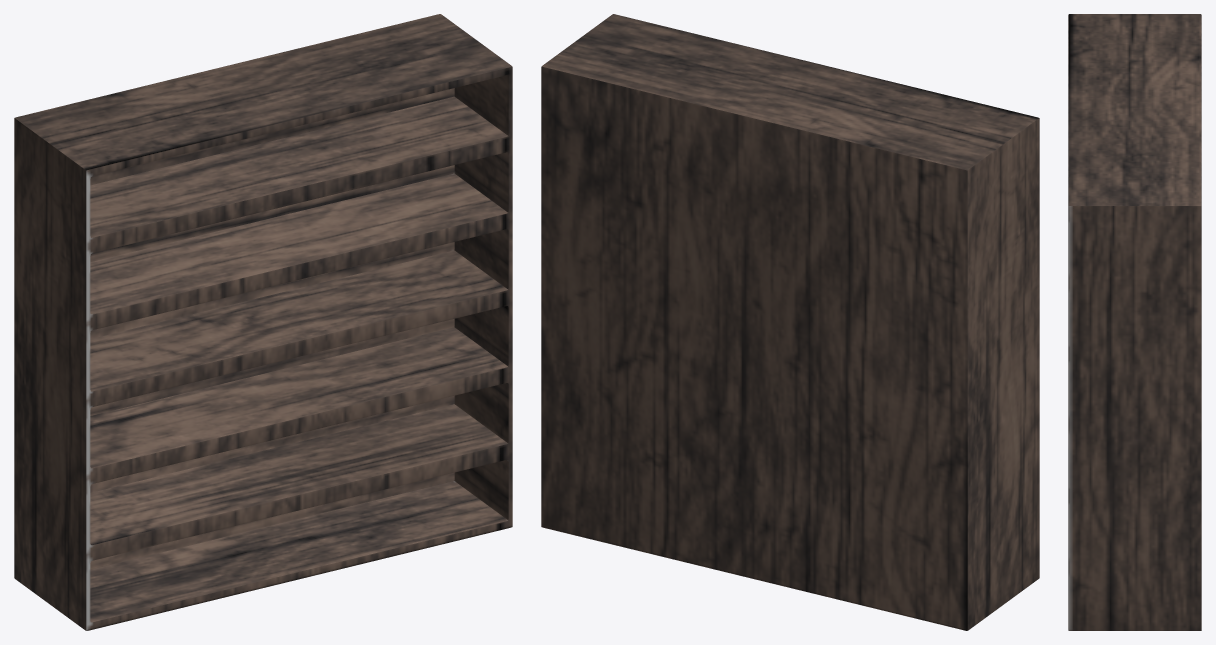
File: Armario_2_Adm_CENA.fbx
The picture shows the model from 3 angles, left to right: view 1: azimuth 30°, elevation 25°; view 2: azimuth 150°, elevation 25°; view 3: azimuth 270°, elevation 25°; orthographic projection. The views are drawn at different scales.
Visible parts, largest first — view 1: Cube.092; view 2: Cube.092; view 3: Cube.092.
Boxes of the visible parts, bbox=[...] form: Cube.092: bbox=[14, 14, 512, 630]; Cube.092: bbox=[541, 14, 1039, 630]; Cube.092: bbox=[1068, 14, 1201, 630].
Bounding box in the file's own units: 200 × 206 × 58.75.
